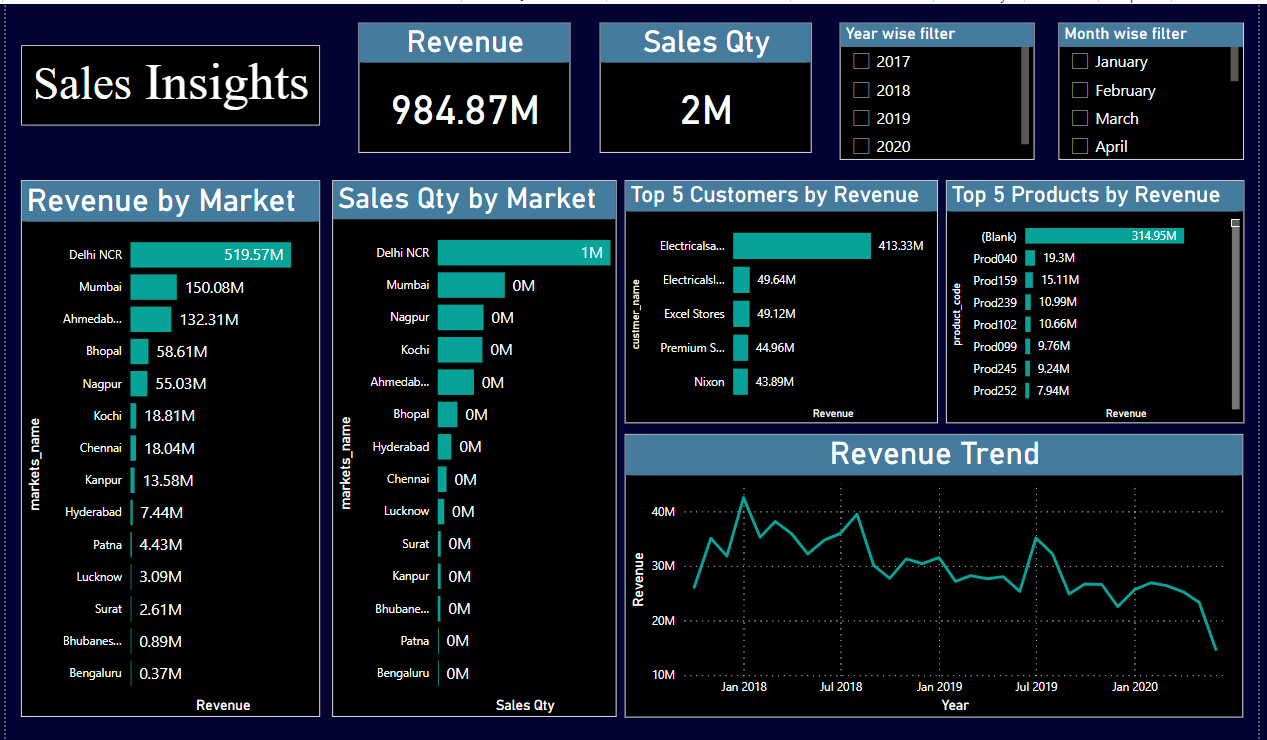

What the dashboard file says about the page in this screenshot:
{"tool":"powerbi","page":{"name":"Page 1","canvas":[1286,756],"ordinal":0},"visuals":[{"type":"card","title":"Revenue","fields":{"Values":["BaseMeasures.Revenue"]},"box":[362.6,19.3,217.8,133.7],"z":0},{"type":"card","title":"Sales Qty","fields":{"Values":["BaseMeasures.Sales Qty"]},"box":[609.4,19.3,217.8,133.7],"z":1000},{"type":"barChart","title":"Revenue by Market","fields":{"Y":["BaseMeasures.Revenue"],"Category":["sales markets.markets_name"]},"box":[15.2,180.6,307.4,551.5],"z":2000},{"type":"barChart","title":"Sales Qty by Market","fields":{"Y":["BaseMeasures.Sales Qty"],"Category":["sales markets.markets_name"]},"box":[335,180.6,292.3,551.5],"z":3000},{"type":"slicer","title":"Year wise filter","fields":{"Values":["sales transactions.order_date.Variation.Date Hierarchy.Year"]},"box":[856.1,19.3,199.9,140.6],"z":4000},{"type":"slicer","title":"Month wise filter","fields":{"Values":["sales transactions.order_date.Variation.Date Hierarchy.Month"]},"box":[1080.9,19.3,190.3,140.6],"z":5000},{"type":"barChart","title":"Top 5 Customers by Revenue","fields":{"Y":["BaseMeasures.Revenue"],"Category":["sales customers.custmer_name"]},"box":[635.6,180.6,321.2,249.5],"z":6000},{"type":"barChart","title":"Top 5 Products by Revenue","fields":{"Y":["BaseMeasures.Revenue"],"Category":["sales products.product_code"]},"box":[965.1,180.6,306.1,249.5],"z":7000},{"type":"lineChart","title":"Revenue Trend","fields":{"Y":["BaseMeasures.Revenue"],"Category":["sales transactions.order_date.Variation.Date Hierarchy.Year","sales transactions.order_date.Variation.Date Hierarchy.Month"]},"box":[635.6,441.2,635.6,290.9],"z":8000},{"type":"textbox","box":[15.4,42.4,306.9,82.2],"z":9000}]}

Visuals, with their boxes in screenshot pixels (x1, y1, x2, y2), scaled from the page's 1286x756 canvas onto the 1267x740 screenshot:
"Revenue" card: [x1=357, y1=19, x2=572, y2=150]
"Sales Qty" card: [x1=600, y1=19, x2=815, y2=150]
"Revenue by Market" barChart: [x1=15, y1=177, x2=318, y2=717]
"Sales Qty by Market" barChart: [x1=330, y1=177, x2=618, y2=717]
"Year wise filter" slicer: [x1=843, y1=19, x2=1040, y2=157]
"Month wise filter" slicer: [x1=1065, y1=19, x2=1252, y2=157]
"Top 5 Customers by Revenue" barChart: [x1=626, y1=177, x2=943, y2=421]
"Top 5 Products by Revenue" barChart: [x1=951, y1=177, x2=1252, y2=421]
"Revenue Trend" lineChart: [x1=626, y1=432, x2=1252, y2=717]
textbox: [x1=15, y1=42, x2=318, y2=122]
